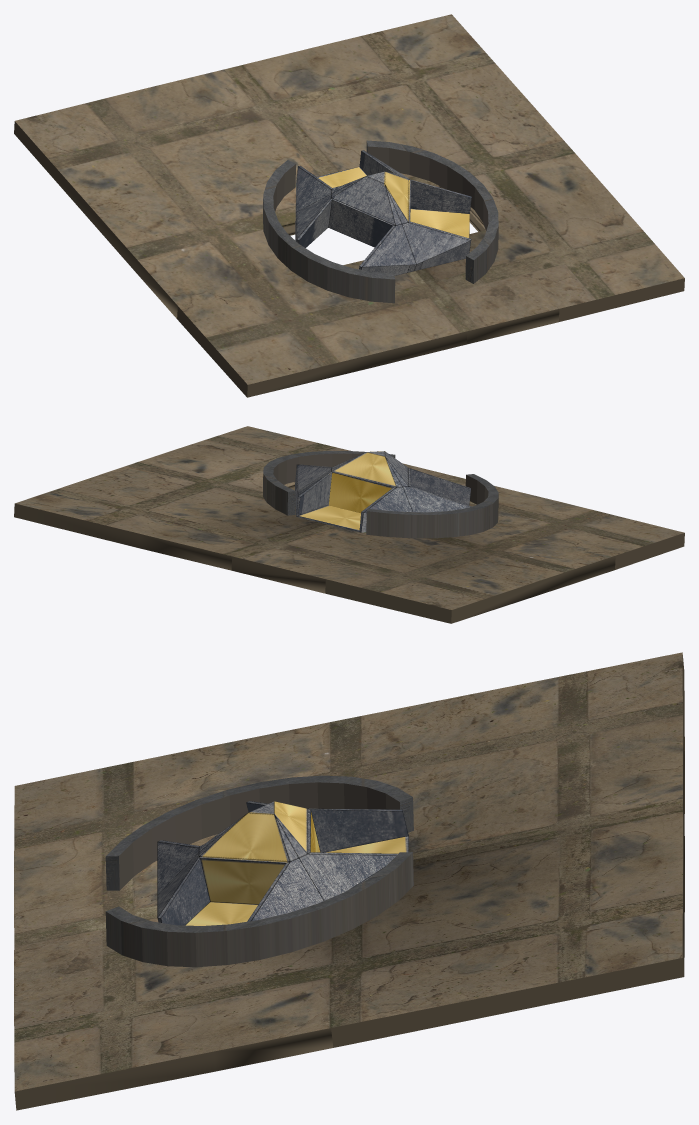
Rendered from Center_Gimik3.fbx.
3 views of the same model, one above another, from view 1: azimuth 30°, elevation 25°; view 2: azimuth 150°, elevation 25°; view 3: azimuth 270°, elevation 25° (orthographic). The views are drawn at different scales.
Parts seen in each view (by area): view 1: StageL.002, Rolling_Pocket, Shotter_OutSide; view 2: StageL.002, Rolling_Pocket, Shotter_OutSide; view 3: StageL.002, Shotter_OutSide, Rolling_Pocket.
Boxes of the visible parts, left/top/right/bottom form: StageL.002: left=14, top=14, right=684, bottom=397; Rolling_Pocket: left=295, top=150, right=471, bottom=275; Shotter_OutSide: left=263, top=140, right=498, bottom=303; StageL.002: left=14, top=426, right=684, bottom=623; Rolling_Pocket: left=295, top=451, right=471, bottom=532; Shotter_OutSide: left=263, top=451, right=498, bottom=538; StageL.002: left=14, top=652, right=684, bottom=1110; Shotter_OutSide: left=105, top=775, right=413, bottom=967; Rolling_Pocket: left=157, top=801, right=408, bottom=925.
Size of the model in its own units: 8.57 by 2.01 by 7.94.
Materials: 3 (3 with a texture image).
